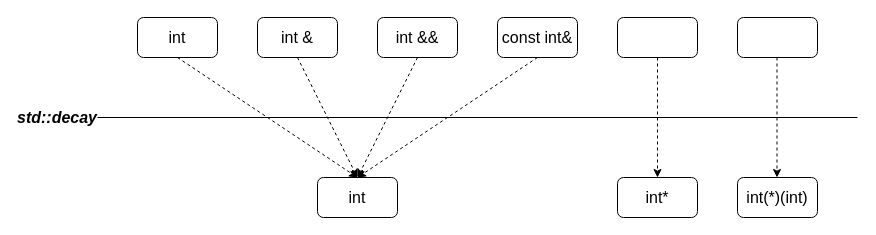
The diagram is 876 pixels wide and 235 high, and some of its shapes have lost their labels. Each missing label, with the box of its shape:
int(int): (736, 16, 818, 58)
int[2]: (616, 16, 698, 58)
